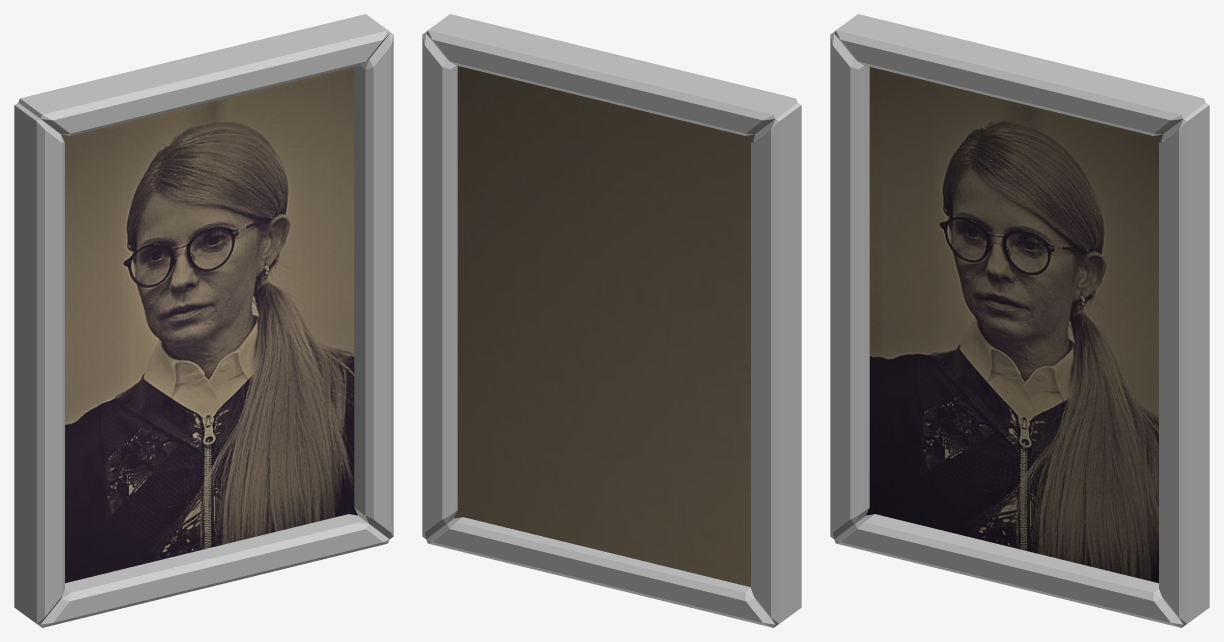
Rendered from Portret_Tymoshenko.fbx.
3 renders of one model, left to right at view 1: azimuth 30°, elevation 25°; view 2: azimuth 150°, elevation 25°; view 3: azimuth 330°, elevation 25°, orthographic.
Parts seen in each view (by area): view 1: Tymoshenko, frame.006; view 2: Tymoshenko, frame.006; view 3: Tymoshenko, frame.006.
Part boxes in pixels (x1=…): Tymoshenko: x1=61, y1=67, x2=357, y2=583; frame.006: x1=14, y1=14, x2=393, y2=627; Tymoshenko: x1=454, y1=66, x2=754, y2=587; frame.006: x1=422, y1=14, x2=801, y2=627; Tymoshenko: x1=866, y1=67, x2=1162, y2=583; frame.006: x1=830, y1=14, x2=1209, y2=627.
Bounding box in the file's own units: 80.08 × 110 × 11.
